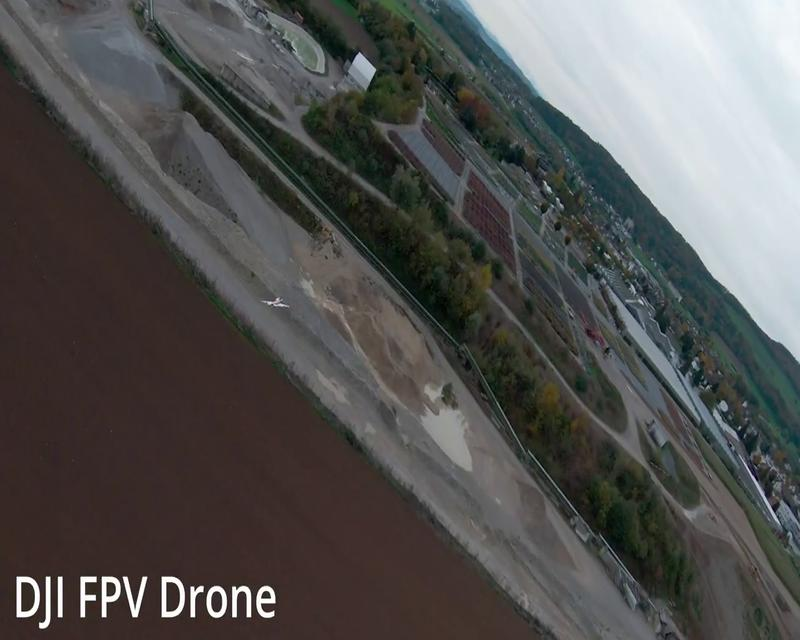UAV: (262, 298, 290, 308)
